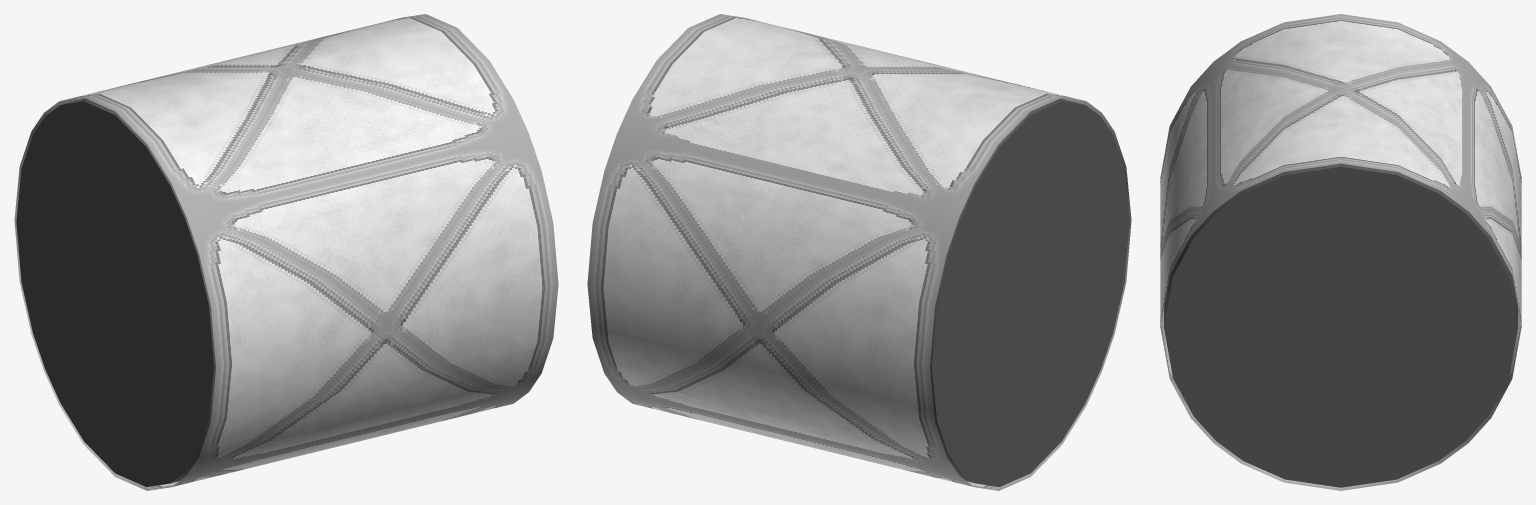
Rendered from devgenerator.obj.
3 renders of one model, left to right at view 1: azimuth 30°, elevation 25°; view 2: azimuth 150°, elevation 25°; view 3: azimuth 270°, elevation 25°, orthographic. The views are drawn at different scales.
Visible parts, largest first — view 1: Devgenerator5, Devgenerator1, Devgenerator3, Devgenerator4, Devgenerator2; view 2: Devgenerator2, Devgenerator1, Devgenerator3, Devgenerator4, Devgenerator5; view 3: Devgenerator1, Devgenerator3, Devgenerator2, Devgenerator5, Devgenerator4.
Part boxes in pixels (x1,y1,x2,y2): Devgenerator5: [186, 133, 558, 475]; Devgenerator1: [16, 99, 215, 486]; Devgenerator3: [44, 14, 528, 216]; Devgenerator4: [44, 371, 528, 490]; Devgenerator2: [14, 111, 51, 371]; Devgenerator2: [587, 133, 959, 475]; Devgenerator1: [930, 99, 1129, 486]; Devgenerator3: [617, 14, 1101, 216]; Devgenerator4: [617, 371, 1101, 490]; Devgenerator5: [1094, 111, 1131, 371]; Devgenerator1: [1164, 163, 1517, 487]; Devgenerator3: [1213, 14, 1468, 211]; Devgenerator2: [1468, 62, 1521, 442]; Devgenerator5: [1160, 62, 1213, 442]; Devgenerator4: [1213, 438, 1468, 490].
Size of the model in its own units: 2 by 2.04 by 2.04.
2 materials, 1 textured.
